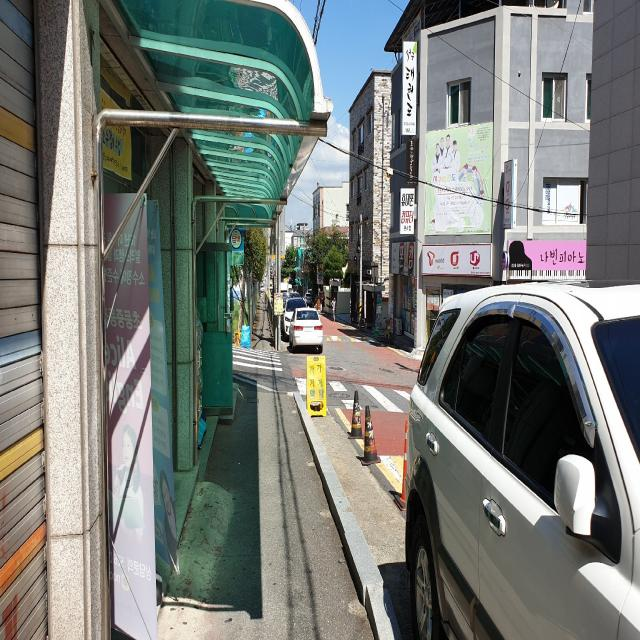횡단보도: (232, 344, 283, 372), (363, 384, 404, 409)
